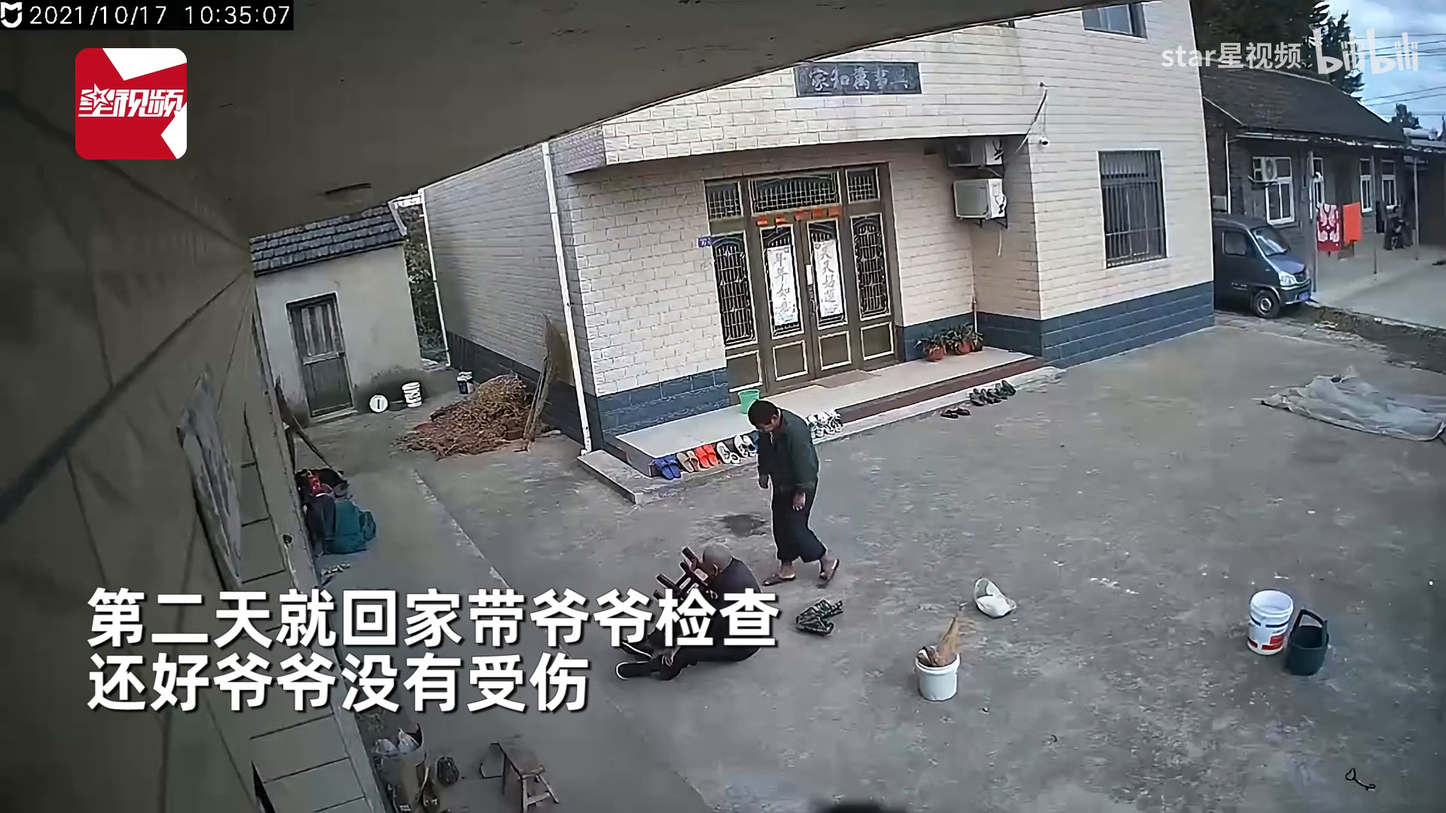half_up: (621, 542, 776, 684)
stand: (746, 397, 840, 586)
